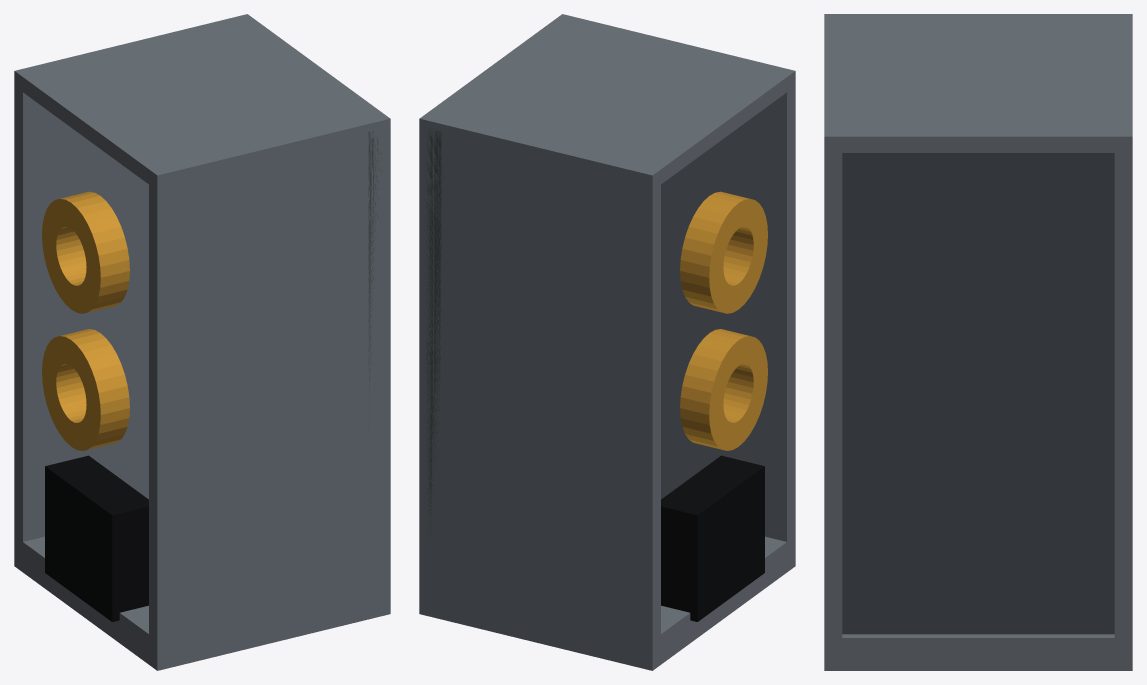
Rendered from L32_AUDIO.obj.
3 views of the same model, side by side, from view 1: azimuth 30°, elevation 25°; view 2: azimuth 150°, elevation 25°; view 3: azimuth 270°, elevation 25° (orthographic). The views are drawn at different scales.
Visible parts, largest first — view 1: AUDIO_Steel, AUDIO_Gold, AUDIO_Black, AUDIO_Gray; view 2: AUDIO_Steel, AUDIO_Gold, AUDIO_Black, AUDIO_Gray; view 3: AUDIO_Gray, AUDIO_Steel.
Part boxes in pixels (x1,y1,x2,y2): AUDIO_Steel: [14, 14, 390, 670]; AUDIO_Gold: [42, 191, 129, 450]; AUDIO_Black: [45, 455, 148, 621]; AUDIO_Gray: [368, 130, 381, 399]; AUDIO_Steel: [419, 14, 795, 670]; AUDIO_Gold: [680, 191, 767, 450]; AUDIO_Black: [661, 455, 764, 621]; AUDIO_Gray: [426, 129, 441, 590]; AUDIO_Gray: [842, 153, 1114, 634]; AUDIO_Steel: [824, 14, 1132, 670].
Bounding box in the file's own units: 0.017 × 0.0325 × 0.017.
